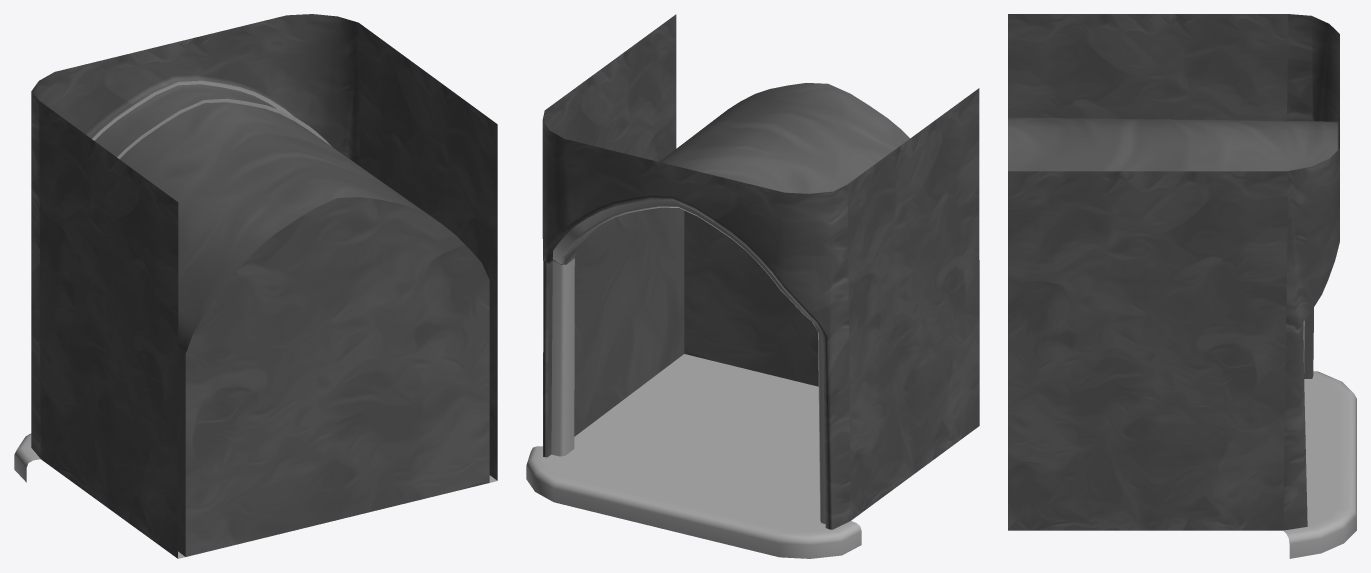
The model's file is GrassWallDoorEnter.fbx.
3 views of the same model, side by side, from view 1: azimuth 30°, elevation 25°; view 2: azimuth 150°, elevation 25°; view 3: azimuth 270°, elevation 25° (orthographic). The views are drawn at different scales.
Parts seen in each view (by area): view 1: GrassWallDoorEnter; view 2: GrassWallDoorEnter; view 3: GrassWallDoorEnter.
Boxes of the visible parts, x1,y1,x2,y2 form: GrassWallDoorEnter: [14, 14, 497, 558]; GrassWallDoorEnter: [526, 14, 979, 558]; GrassWallDoorEnter: [1008, 14, 1356, 558].
Bounding box in the file's own units: 102 × 106 × 87.92.
